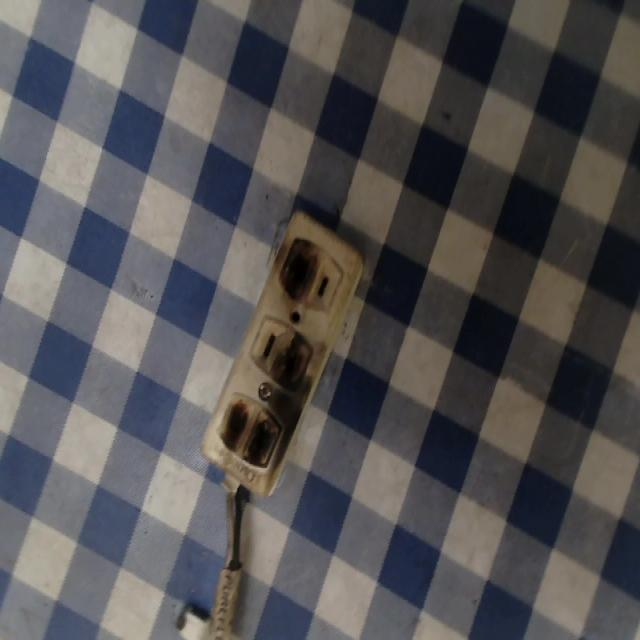-: (215, 392, 284, 475), (276, 230, 318, 310), (274, 331, 312, 398)
